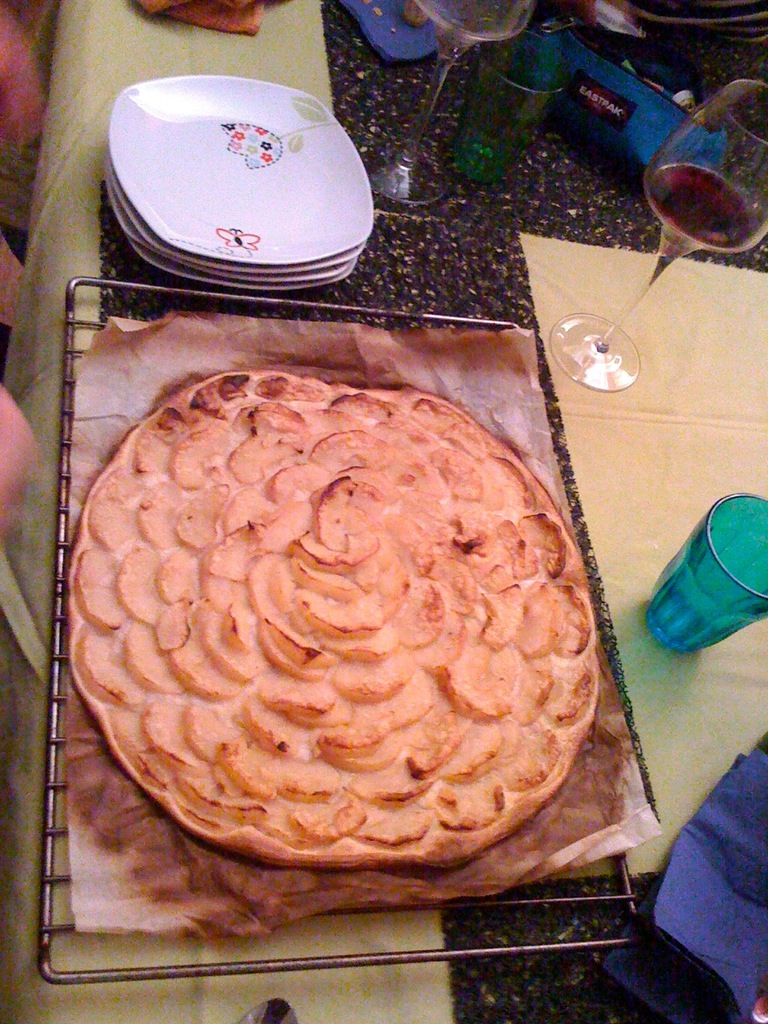plate: (87, 60, 378, 270)
